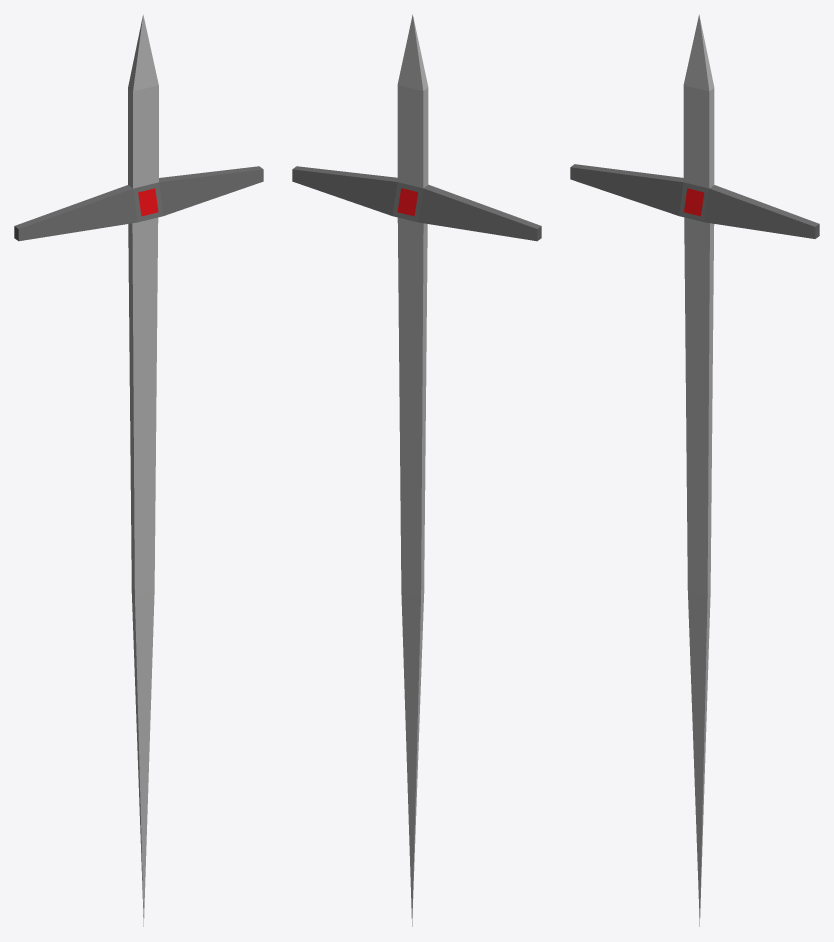
Rendered from templar sword vertical.glb.
The picture shows the model from 3 angles, left to right: view 1: azimuth 30°, elevation 25°; view 2: azimuth 150°, elevation 25°; view 3: azimuth 330°, elevation 25°; orthographic projection.
Parts seen in each view (by area): view 1: Cube; view 2: Cube; view 3: Cube.
Boxes of the visible parts, bbox=[...] form: Cube: bbox=[14, 14, 263, 926]; Cube: bbox=[292, 14, 541, 926]; Cube: bbox=[570, 14, 819, 926].
Size of the model in its own units: 3.6 by 12.83 by 0.3794.
